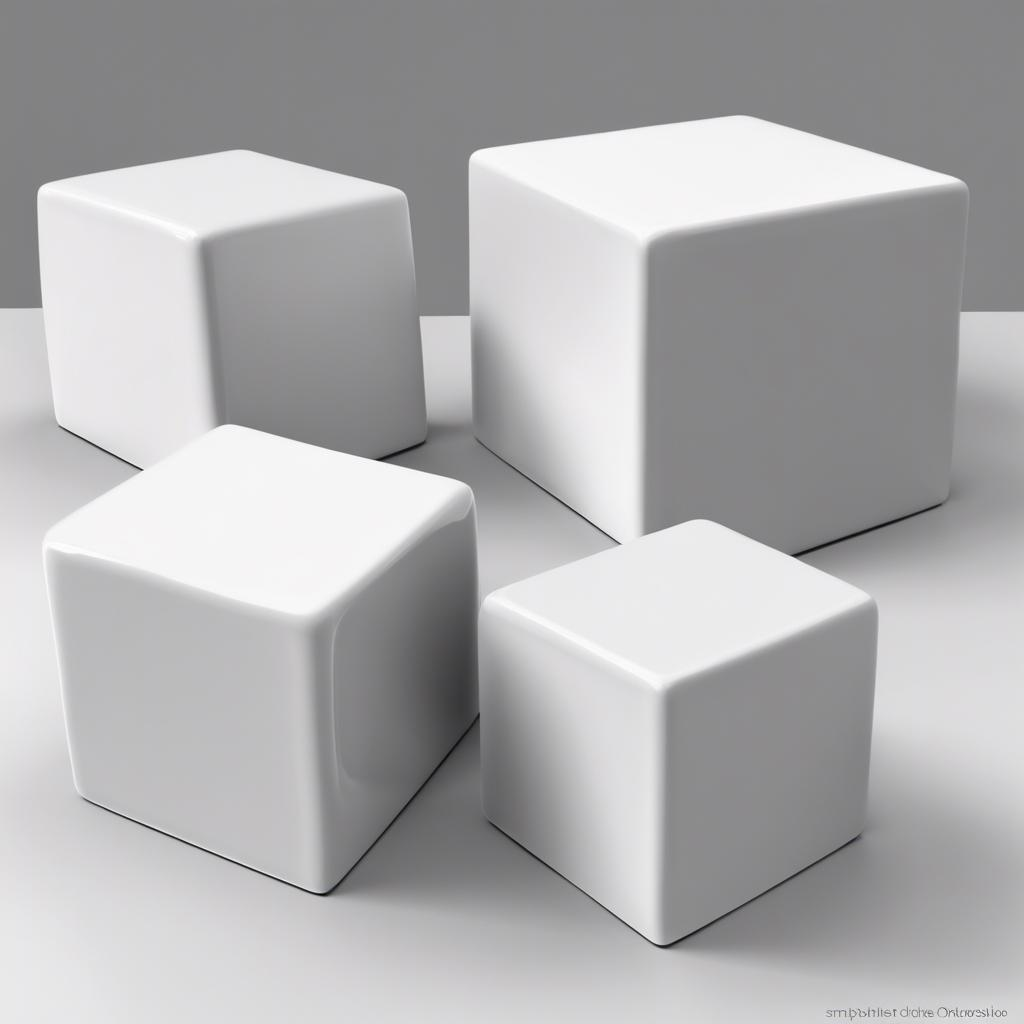cube: (467, 112, 969, 556), (40, 421, 479, 895), (477, 516, 878, 947), (35, 146, 429, 471)
